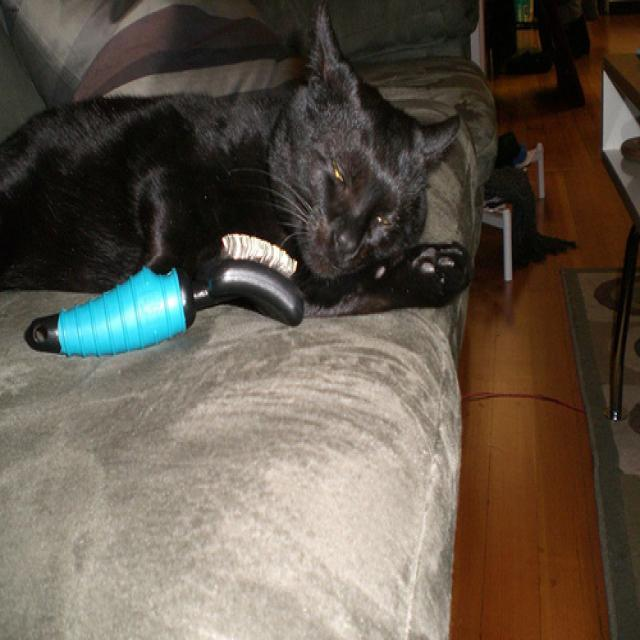Bombay: (270, 11, 448, 296)
